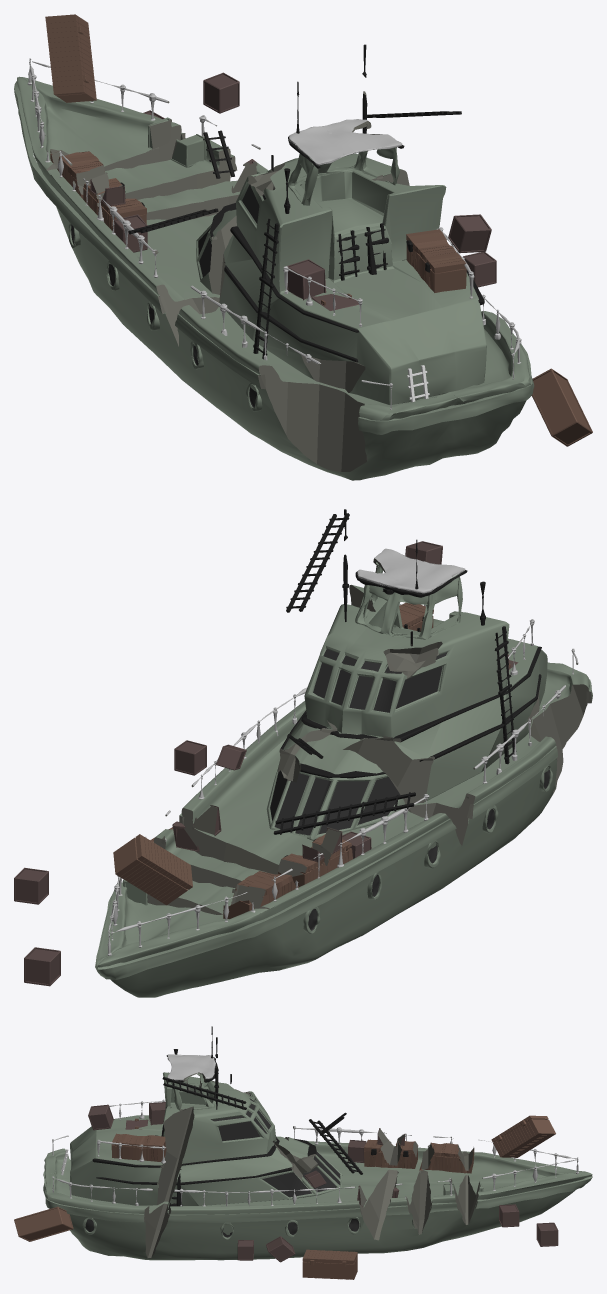
File: shipwreckComplete.fbx
3 views of the same model, one above another, from view 1: azimuth 30°, elevation 25°; view 2: azimuth 150°, elevation 25°; view 3: azimuth 270°, elevation 25° (orthographic). The views are drawn at different scales.
Visible parts, largest first — view 1: whole ship.001, supplies.004, Cube.052, Cube.058, Cube.051, Cube.055; view 2: whole ship.001, supplies.004, Cube.057, Cube.059, Cube.002, Cube.051, Cube.055, Cube.058; view 3: whole ship.001, supplies.004, supplies.003, Cube.052, Cube.059, Cube.057, Cube.058, Cube.002, Cube.053, Cube.051, Cube.055.
Part boxes in pixels (<box>): whole ship.001: <box>14,44,534,480</box>; supplies.004: <box>45,14,96,102</box>; Cube.052: <box>531,368,592,446</box>; Cube.058: <box>448,214,491,253</box>; Cube.051: <box>203,72,239,113</box>; Cube.055: <box>463,252,496,287</box>; whole ship.001: <box>95,509,592,997</box>; supplies.004: <box>113,834,192,905</box>; Cube.057: <box>273,792,415,834</box>; Cube.059: <box>286,513,349,612</box>; Cube.002: <box>24,947,60,986</box>; Cube.051: <box>14,867,48,904</box>; Cube.055: <box>174,740,206,775</box>; Cube.058: <box>405,541,442,564</box>; whole ship.001: <box>43,1026,592,1260</box>; supplies.004: <box>491,1115,555,1157</box>; supplies.003: <box>302,1249,357,1279</box>; Cube.052: <box>14,1206,73,1241</box>; Cube.059: <box>162,1077,246,1109</box>; Cube.057: <box>309,1119,362,1174</box>; Cube.058: <box>88,1104,113,1130</box>; Cube.002: <box>536,1222,558,1246</box>; Cube.053: <box>266,1236,295,1262</box>; Cube.051: <box>499,1204,519,1227</box>; Cube.055: <box>237,1239,253,1260</box>.
Bounding box in the file's own units: 444 × 453 × 1141.
